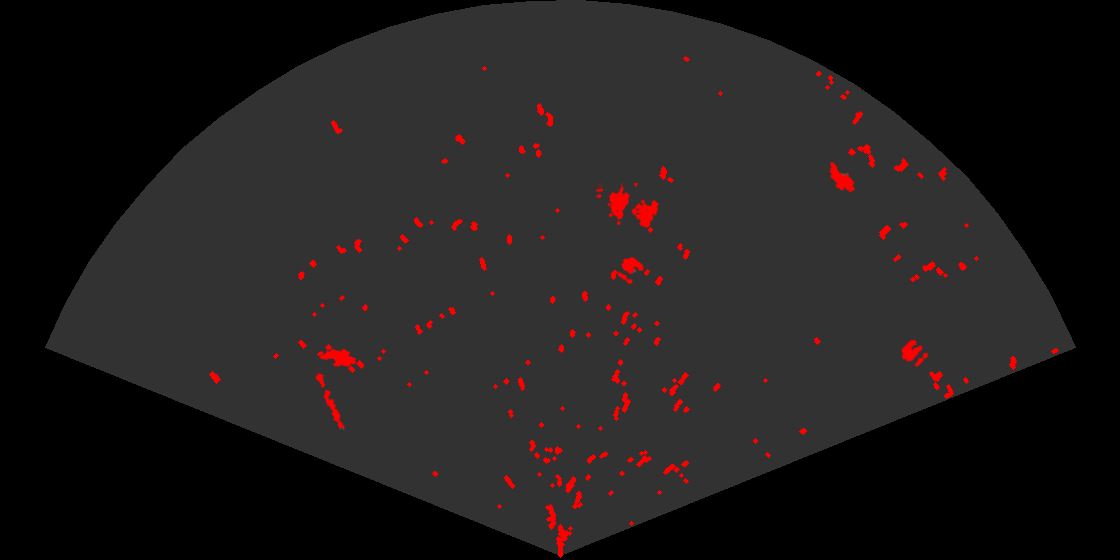AUV: (828, 160, 856, 194), (318, 347, 358, 369)
ball: (616, 255, 646, 286), (900, 338, 930, 368)
cage: (596, 183, 661, 230)
chain: (313, 366, 347, 431)
